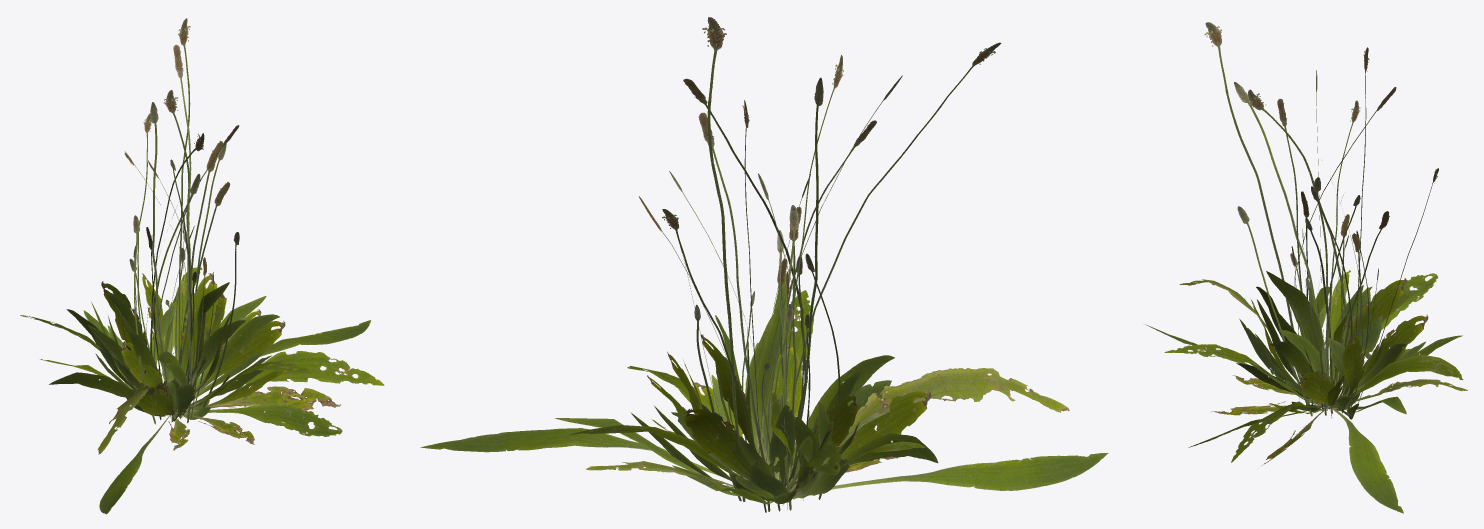
Rendered from Weed_04_Var2_LOD0.fbx.
3 renders of one model, left to right at view 1: azimuth 30°, elevation 25°; view 2: azimuth 150°, elevation 25°; view 3: azimuth 270°, elevation 25°, orthographic. The views are drawn at different scales.
Visible parts, largest first — view 1: Var2_LOD0; view 2: Var2_LOD0; view 3: Var2_LOD0.
Boxes of the visible parts, x1=… form: Var2_LOD0: x1=20, y1=18, x2=384, y2=514; Var2_LOD0: x1=420, y1=17, x2=1108, y2=512; Var2_LOD0: x1=1145, y1=22, x2=1467, y2=513.
Size of the model in its own units: 60.41 by 55.33 by 43.03.
